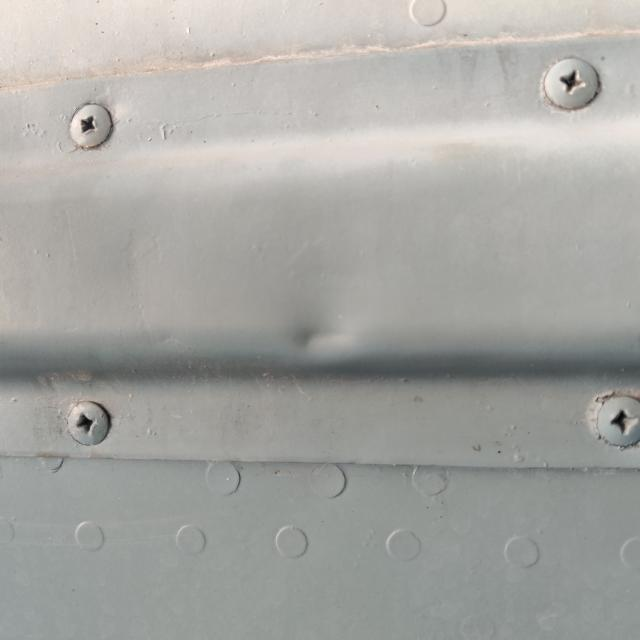dent: (275, 298, 361, 379)
